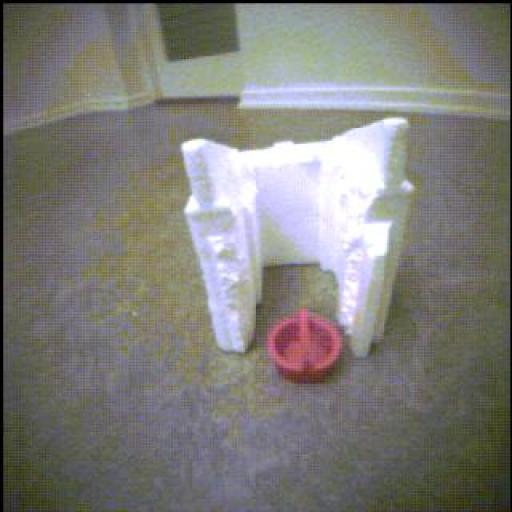Bucket: (269, 310, 344, 383)
